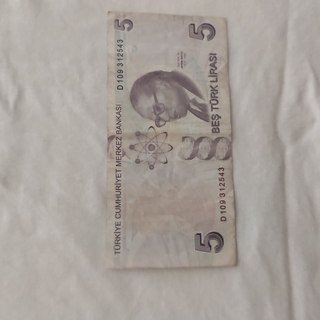5TLBack: (103, 10, 238, 270)
